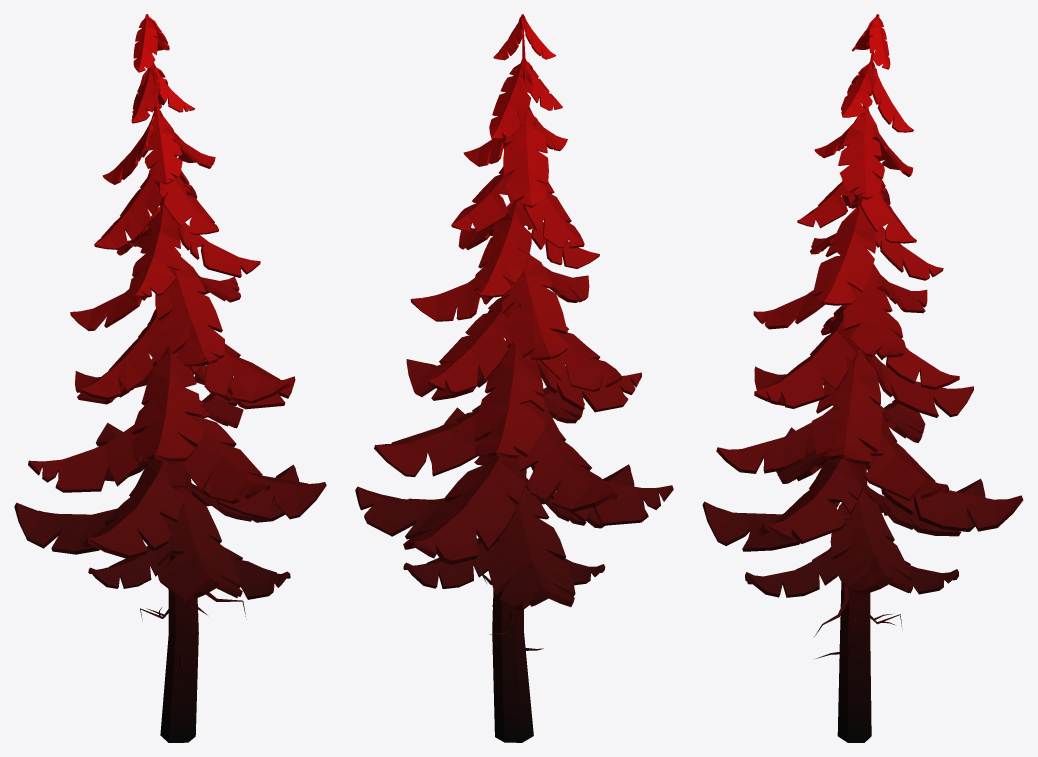
The model's file is TreeSpruce04.fbx.
The picture shows the model from 3 angles, left to right: view 1: azimuth 30°, elevation 25°; view 2: azimuth 150°, elevation 25°; view 3: azimuth 270°, elevation 25°; orthographic projection. The views are drawn at different scales.
Parts seen in each view (by area): view 1: TreeSpruce04_LOD0; view 2: TreeSpruce04_LOD0; view 3: TreeSpruce04_LOD0.
Part boxes in pixels (x1,y1,x2,y2): TreeSpruce04_LOD0: (14,14,326,742); TreeSpruce04_LOD0: (355,14,673,742); TreeSpruce04_LOD0: (702,14,1023,742).
Size of what is drawn, in the model's own units: 121 by 318 by 130.
